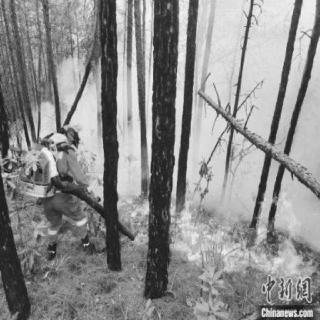Fire: (18, 123, 101, 259), (116, 192, 152, 250)
Smoke: (250, 52, 273, 106)
other: (261, 271, 313, 310)
